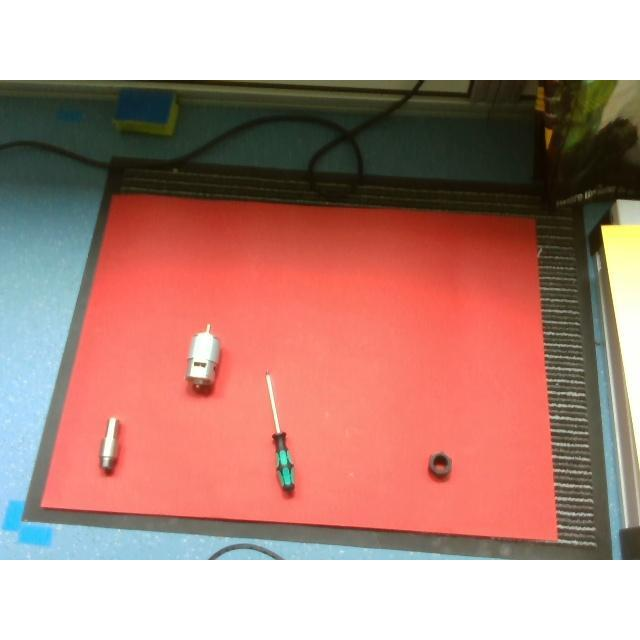Axis2: (98, 417, 122, 471)
M20: (428, 452, 452, 480)
Motor2: (184, 323, 222, 389)
Screwdriver: (265, 371, 293, 494)
